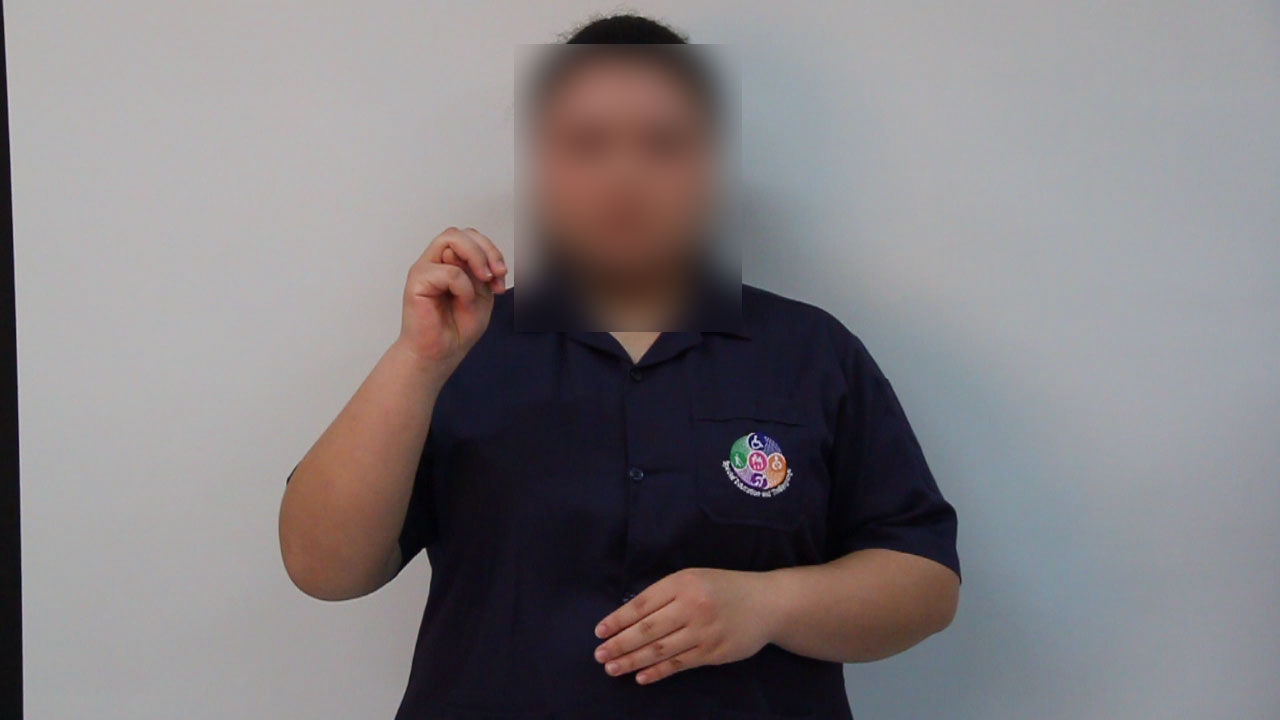mor: (386, 202, 518, 378)
